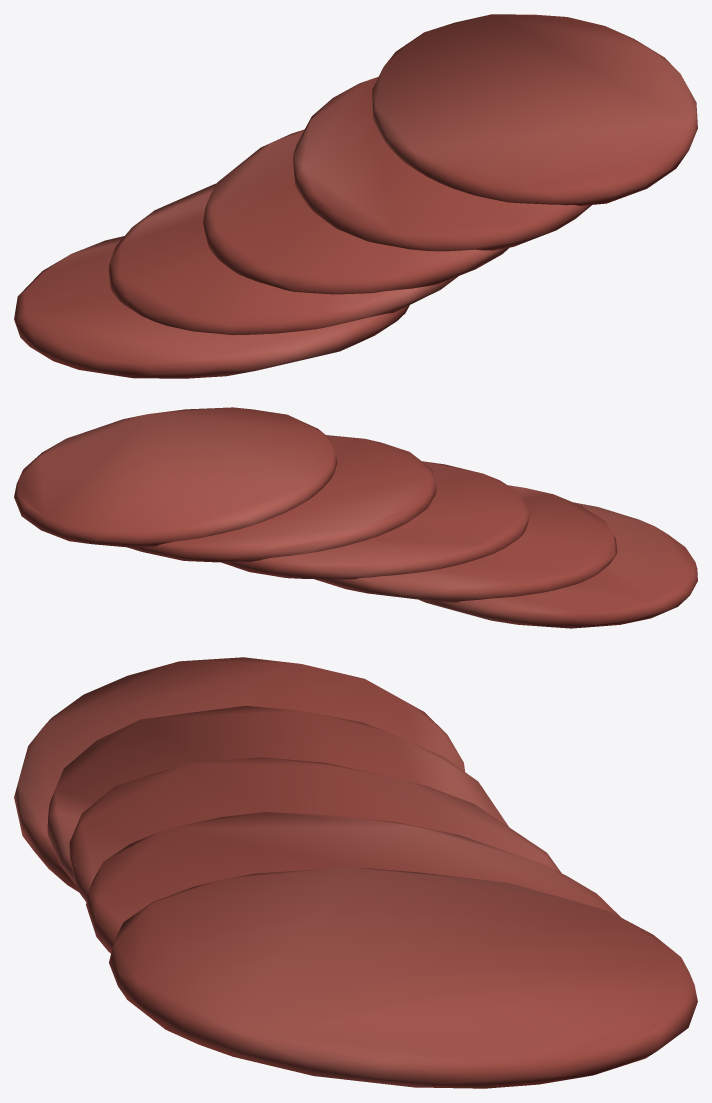
Rendered from thit_lat.glb.
The picture shows the model from 3 angles, top to bottom: view 1: azimuth 30°, elevation 25°; view 2: azimuth 150°, elevation 25°; view 3: azimuth 270°, elevation 25°; orthographic projection. The views are drawn at different scales.
Parts seen in each view (by area): view 1: thit_lat; view 2: thit_lat; view 3: thit_lat.
Part boxes in pixels (<box>): thit_lat: <box>14,14,697,378</box>; thit_lat: <box>14,407,697,628</box>; thit_lat: <box>14,657,697,1088</box>.
Bounding box in the file's own units: 0.2271 × 0.022 × 0.1354.
